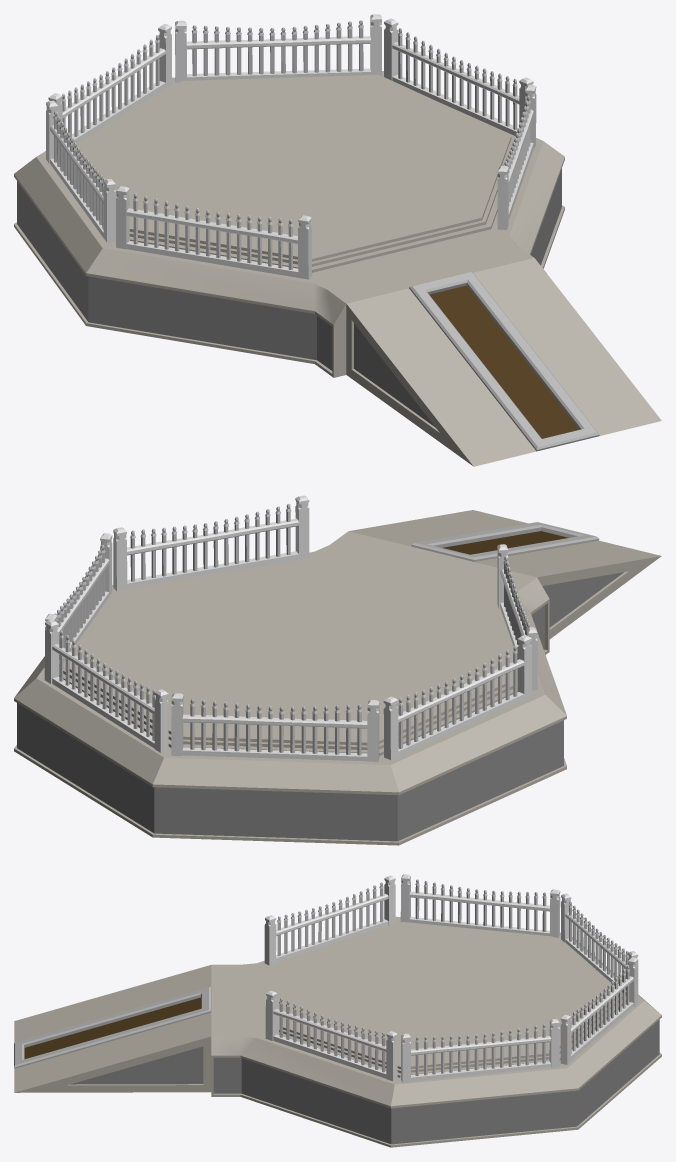
The model's file is OutsidePlatform.fbx.
3 views of the same model, one above another, from view 1: azimuth 30°, elevation 25°; view 2: azimuth 150°, elevation 25°; view 3: azimuth 270°, elevation 25° (orthographic). The views are drawn at different scales.
Visible parts, largest first — view 1: Outside_Platform; view 2: Outside_Platform; view 3: Outside_Platform.
Part boxes in pixels (x1,y1,x2,y2): Outside_Platform: [14, 14, 661, 466]; Outside_Platform: [14, 495, 661, 845]; Outside_Platform: [14, 874, 661, 1147].
Bounding box in the file's own units: 17.55 × 4.62 × 26.33.
